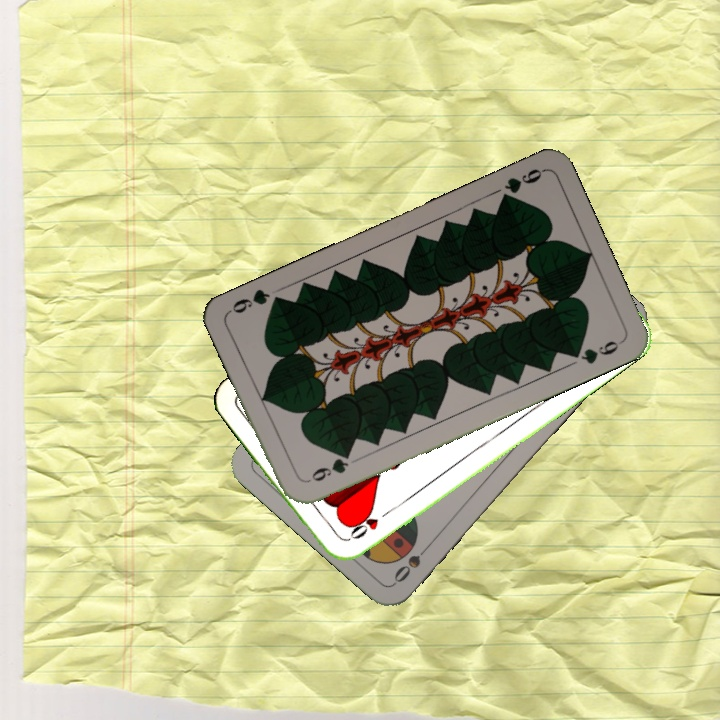G9: (496, 164, 547, 206), (303, 448, 354, 486)
HO: (342, 505, 394, 544)
SO: (389, 538, 435, 586)
